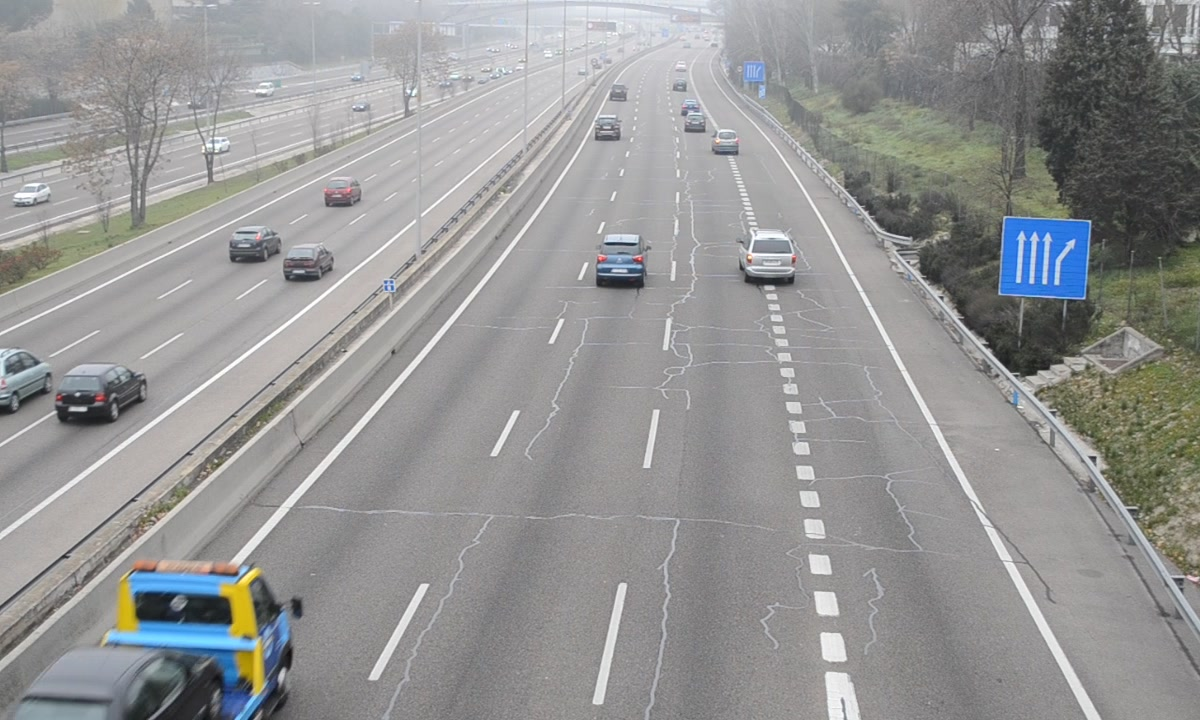car: (740, 227, 794, 281), (594, 235, 645, 286), (593, 114, 621, 143), (712, 128, 740, 155)
small-truck: (11, 557, 294, 720)
